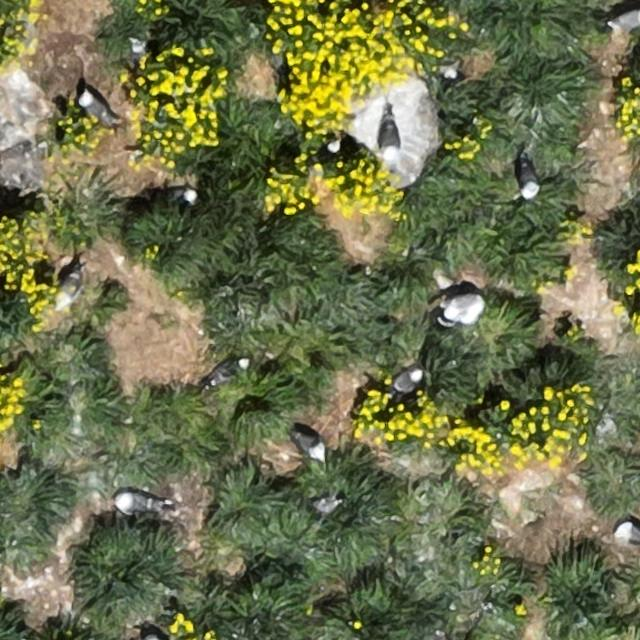umineko: (443, 294, 482, 320), (293, 431, 324, 460), (80, 92, 108, 120), (115, 494, 154, 514), (58, 272, 80, 307), (209, 359, 244, 381), (518, 161, 538, 198), (380, 119, 398, 157), (393, 368, 421, 392), (610, 10, 640, 30), (617, 523, 639, 543), (171, 188, 196, 205)
